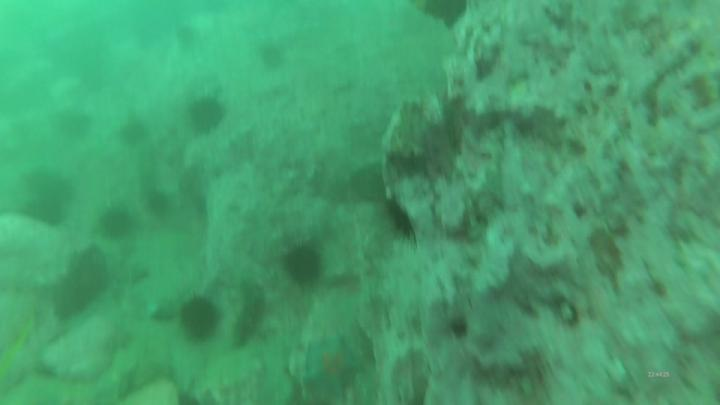echinus: (42, 270, 103, 323), (379, 190, 418, 245), (179, 292, 220, 344), (283, 247, 326, 294), (187, 96, 230, 136), (98, 206, 137, 242), (116, 118, 155, 152), (22, 198, 63, 227), (57, 112, 95, 143), (261, 45, 286, 72)
starfish: (302, 332, 367, 403)
